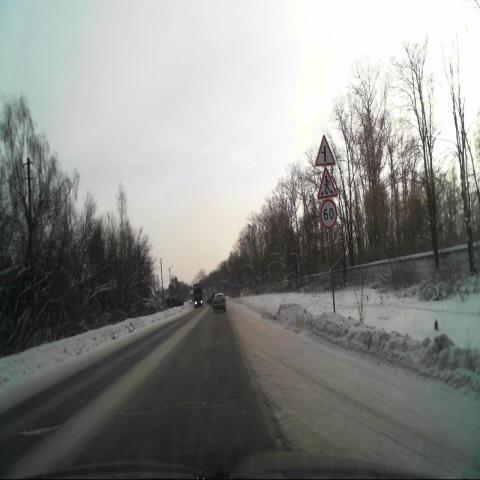1_22: (317, 167, 338, 199)
2_3_3: (315, 134, 335, 166)
